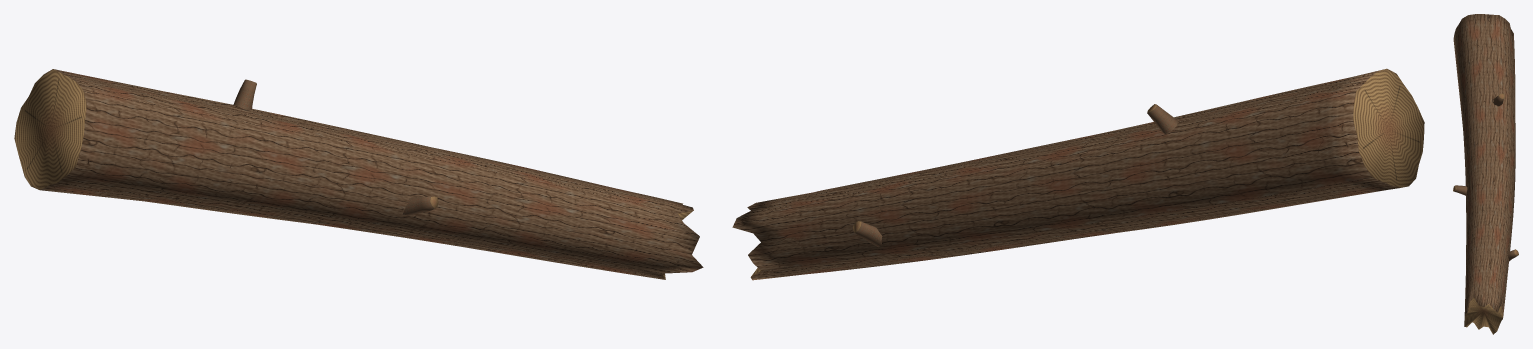
File: fallen_log_angled.fbx
The picture shows the model from 3 angles, left to right: view 1: azimuth 30°, elevation 25°; view 2: azimuth 150°, elevation 25°; view 3: azimuth 270°, elevation 25°; orthographic projection. The views are drawn at different scales.
Parts seen in each view (by area): view 1: FallenLogAngledMesh; view 2: FallenLogAngledMesh; view 3: FallenLogAngledMesh.
Part boxes in pixels (x1,y1,x2,y2): FallenLogAngledMesh: (14,69,703,279); FallenLogAngledMesh: (732,68,1424,280); FallenLogAngledMesh: (1453,14,1518,334).
Size of the model in its own units: 15.06 by 2.6 by 7.49.
